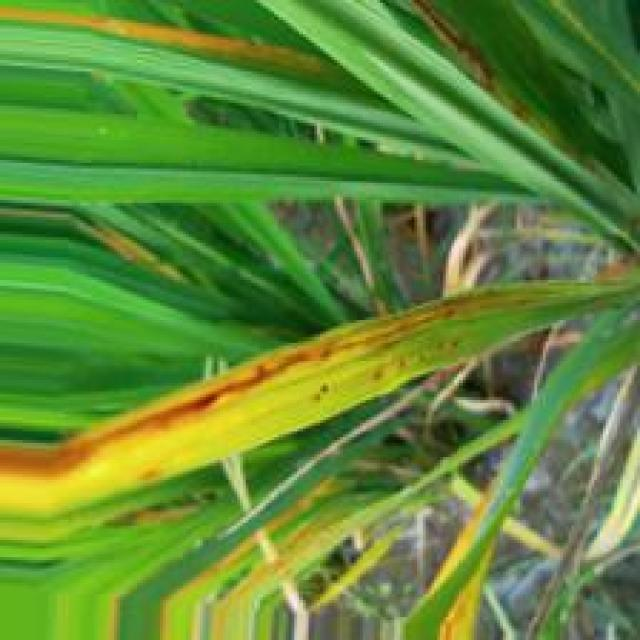Narrow_Brown_Leaf_Spot: (2, 291, 538, 494)
